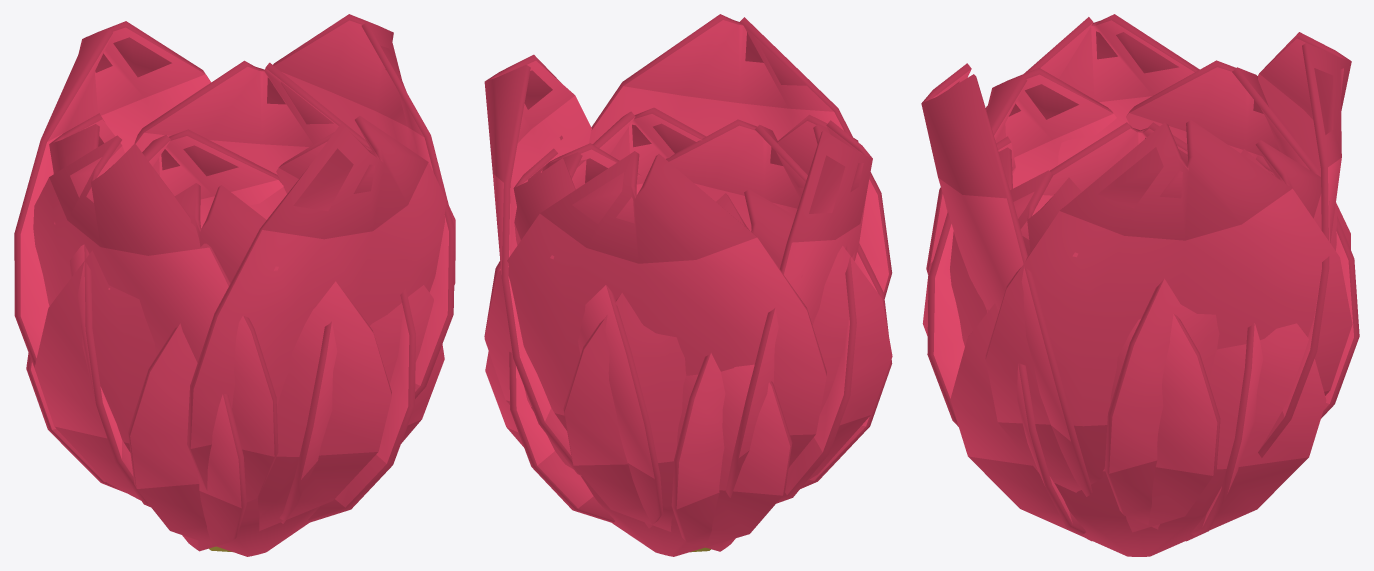
Rendered from garden-tulip-bloom-head-3.glb.
3 views of the same model, side by side, from view 1: azimuth 30°, elevation 25°; view 2: azimuth 150°, elevation 25°; view 3: azimuth 270°, elevation 25° (orthographic). The views are drawn at different scales.
Visible parts, largest first — view 1: tulip-bloom-head-3; view 2: tulip-bloom-head-3; view 3: tulip-bloom-head-3.
Boxes of the visible parts, x1,y1,x2,y2 form: tulip-bloom-head-3: [14, 14, 455, 556]; tulip-bloom-head-3: [484, 14, 892, 556]; tulip-bloom-head-3: [921, 14, 1359, 556].
Bounding box in the file's own units: 0.0847 × 0.1035 × 0.0842.
